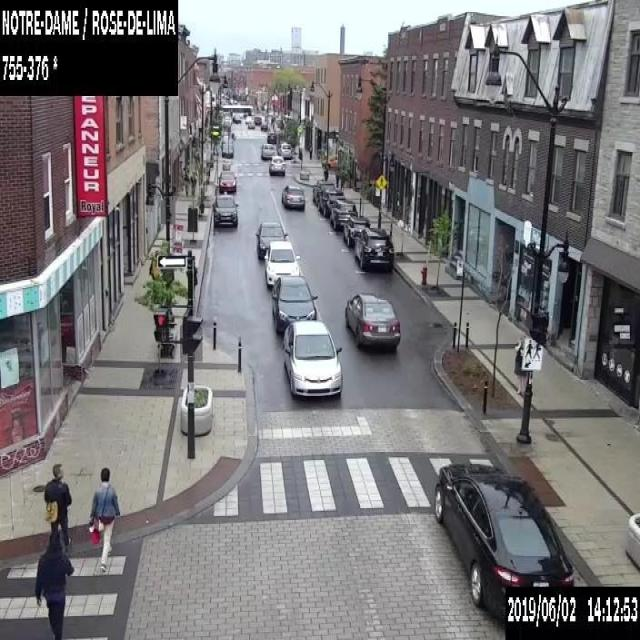bus: (214, 104, 254, 117)
pedestrian: (31, 530, 74, 639), (86, 465, 121, 571), (42, 462, 72, 550), (514, 335, 524, 394)
vehicle: (433, 463, 574, 624), (283, 320, 342, 396), (344, 292, 399, 351), (271, 275, 317, 333), (353, 227, 394, 269), (264, 240, 299, 288), (255, 221, 287, 259), (212, 193, 238, 226), (329, 200, 358, 228), (342, 216, 370, 244), (317, 188, 345, 214), (311, 180, 335, 205), (280, 184, 304, 208), (218, 170, 235, 192), (268, 154, 285, 176), (321, 154, 337, 169), (260, 142, 274, 157), (276, 143, 292, 156), (221, 142, 233, 156), (266, 131, 276, 143), (221, 134, 232, 144), (232, 112, 241, 124), (247, 120, 254, 128), (253, 116, 261, 123), (260, 123, 267, 129), (245, 116, 251, 121)
